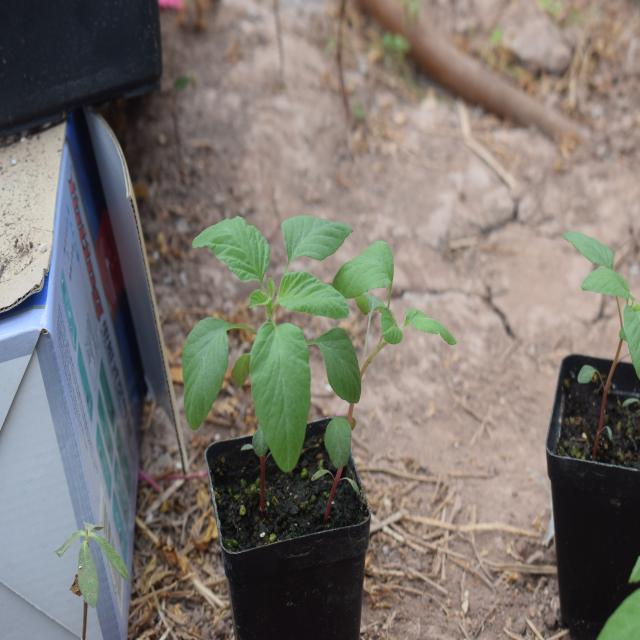pigweed: (181, 198, 370, 468)
